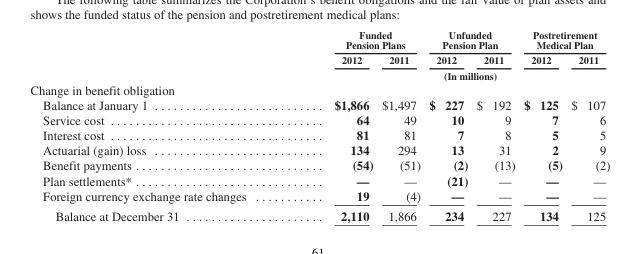table: (29, 28, 609, 222)
table column: (29, 28, 289, 222), (289, 28, 376, 222), (376, 28, 424, 222), (518, 28, 566, 222), (424, 28, 471, 222), (471, 28, 518, 222), (566, 28, 609, 222)
table column header: (29, 28, 609, 81)
table projected row header: (29, 81, 609, 96)
table row: (29, 28, 609, 52), (29, 187, 609, 205), (29, 205, 609, 222), (29, 111, 609, 127), (29, 52, 609, 67), (29, 81, 609, 96), (29, 96, 609, 111), (29, 127, 609, 142), (29, 142, 609, 157), (29, 157, 609, 172), (29, 172, 609, 187), (29, 67, 609, 81)
table spanning cell: (289, 67, 609, 81), (289, 28, 424, 52), (424, 28, 518, 52), (518, 28, 609, 52)
